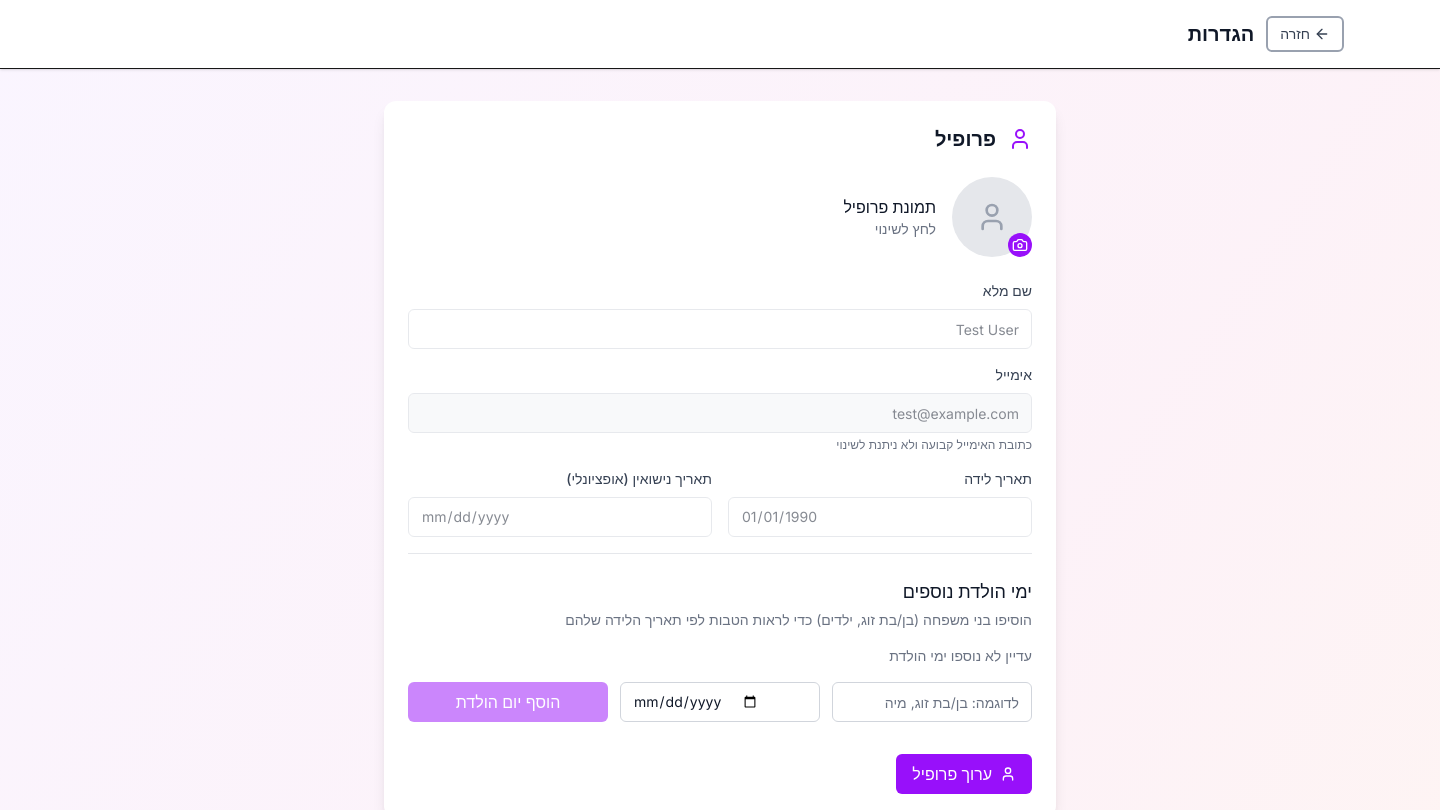
Scenario: Settings Page Form Handling › should enable edit mode when edit button is clicked
The image size is (1440, 810).
Expected: the field showing "Test User" below "שם מלא" is shown, [408,309,1032,349]
Note: Find and click edit button
Click the button "ערוך פרופיל" at (964, 774), box [896,754,1032,794]
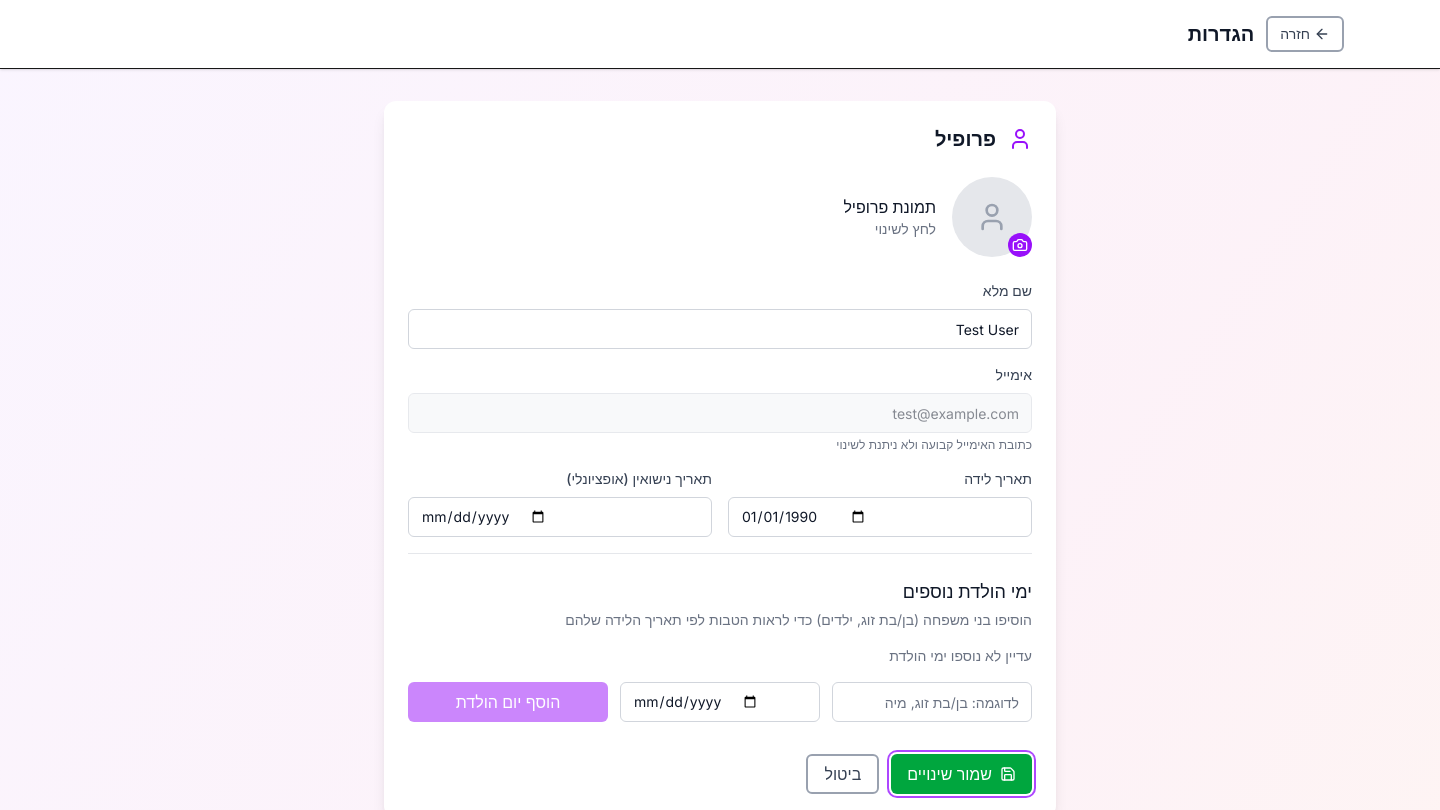
Expected: the field showing "Test User" below "שם מלא" is enabled, [408,309,1032,349]
